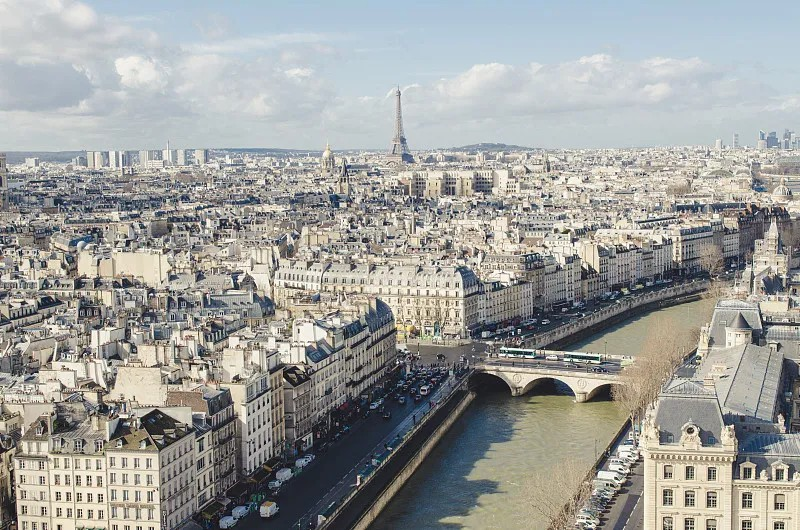Eiffel: (383, 84, 415, 165)
